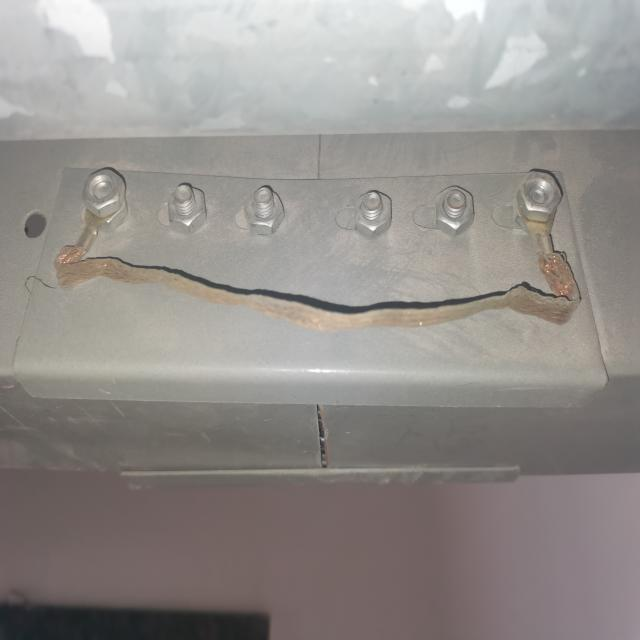bolt nut: (514, 165, 564, 225), (79, 164, 131, 220), (431, 182, 477, 240), (352, 186, 395, 243), (166, 182, 208, 237), (242, 186, 287, 237)
